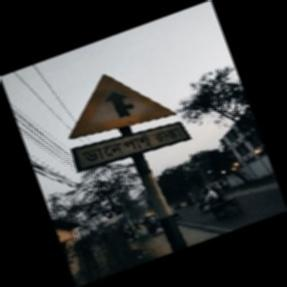Side-road-right: (68, 74, 195, 174)
